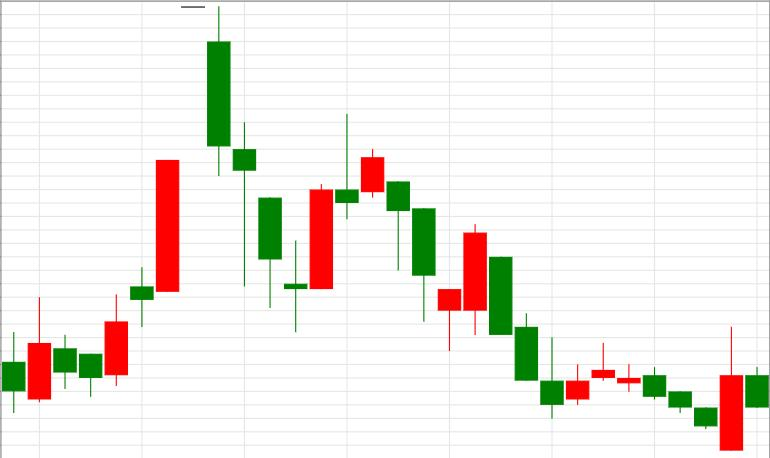bullish_engulfing_rise: (617, 326, 743, 451)
morning_star_rise: (181, 6, 333, 332)
